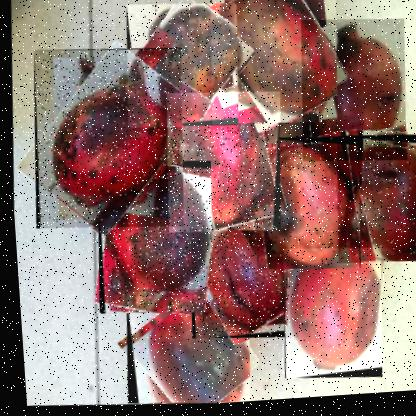pomegranate_rotten: (23, 41, 190, 236), (87, 156, 217, 320), (157, 88, 285, 239), (203, 0, 344, 132), (293, 17, 411, 169), (246, 135, 364, 278), (116, 286, 252, 410), (120, 0, 243, 134), (272, 246, 384, 386), (181, 215, 299, 346), (327, 134, 415, 273)
